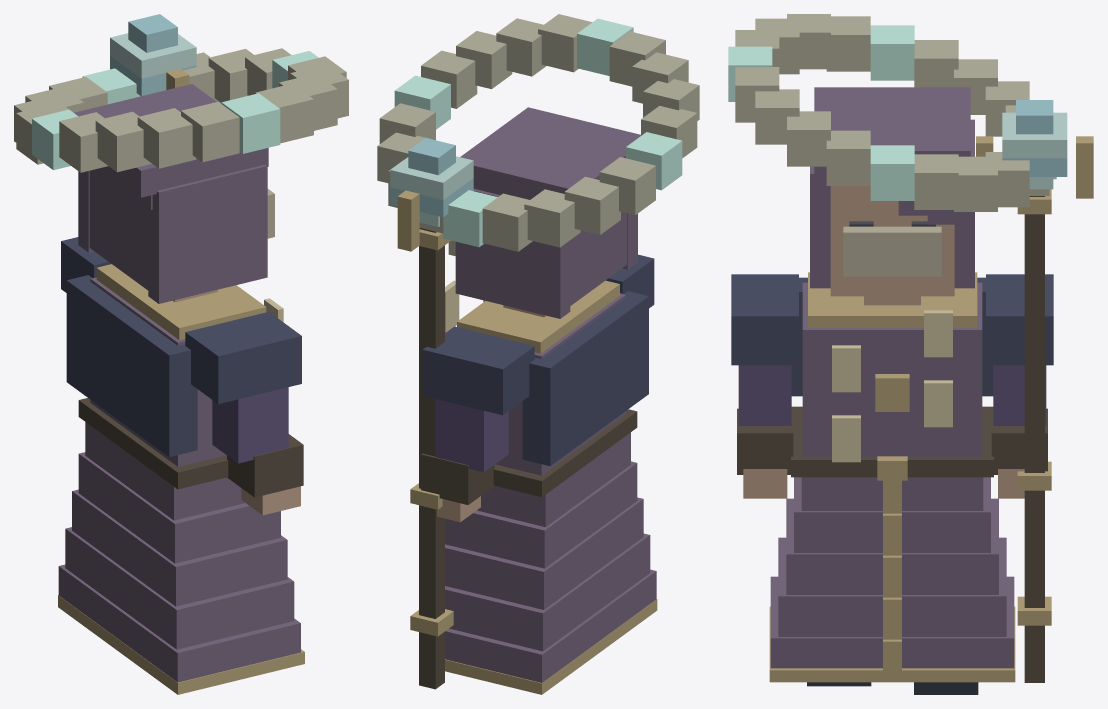
The model's file is dust-hexer.glb.
The picture shows the model from 3 angles, left to right: view 1: azimuth 30°, elevation 25°; view 2: azimuth 150°, elevation 25°; view 3: azimuth 270°, elevation 25°; orthographic projection. The views are drawn at different scales.
Visible parts, largest first — view 1: Robe, CharmHalo, Hood, Mantle, Shoulders, Hair, Collar, StaffCrystal, Sleeves, Belt, RobeHem, Bracers (+2 smaller); view 2: Robe, CharmHalo, Hood, Mantle, Shoulders, StaffShaft, StaffCrystal, Collar, Sleeves, Hair, Belt, RobeHem (+6 smaller); view 3: Robe, CharmHalo, Torso, Hood, Shoulders, StaffShaft, Head, PaperCharms, Sleeves, Mask, Collar, StaffCrystal (+13 smaller).
Part boxes in pixels (x1,y1,x2,y2): Robe: (58,422,300,682); CharmHalo: (14,48,348,172); Hood: (74,84,268,303); Mantle: (66,275,197,457); Shoulders: (61,237,301,404); Hair: (89,168,152,290); Collar: (96,264,266,339); StaffCrystal: (110,14,196,96); Sleeves: (212,387,288,463); Belt: (78,398,228,489); RobeHem: (58,595,304,694); Bracers: (227,434,303,497); Robe: (445,432,656,682); CharmHalo: (377,14,699,251); Hood: (455,107,640,318); Mantle: (522,291,648,466); Shoulders: (422,254,654,415); StaffShaft: (419,228,444,689); StaffCrystal: (390,138,473,226); Collar: (457,280,619,353); Sleeves: (435,399,508,472); Hair: (570,212,626,305); Belt: (493,409,637,497); RobeHem: (445,599,657,694); Robe: (770,477,1014,668); CharmHalo: (728,14,1056,211); Torso: (802,282,982,456); Hood: (810,87,974,288); Shoulders: (731,274,1053,365); StaffShaft: (1024,196,1044,682); Head: (830,186,954,296); PaperCharms: (832,310,952,462); Sleeves: (738,365,1046,425); Mask: (843,226,941,276); Collar: (808,272,977,327); StaffCrystal: (1002,100,1067,189).
Bounding box in the file's own units: 4.85 × 9.95 × 5.39.
